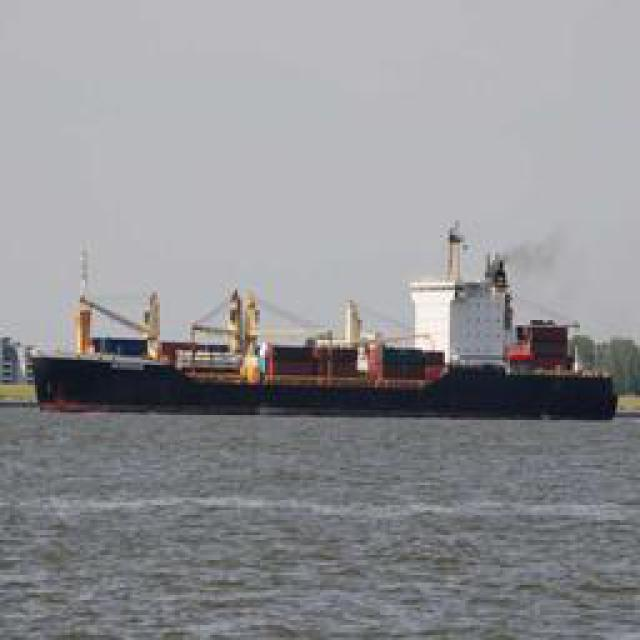Ship: (28, 264, 626, 424)
